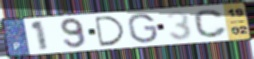1: (30, 19, 50, 52)
3: (166, 9, 193, 43)
9: (59, 17, 88, 51)
C: (192, 8, 229, 39)
D: (92, 15, 127, 48)
G: (127, 13, 160, 45)
